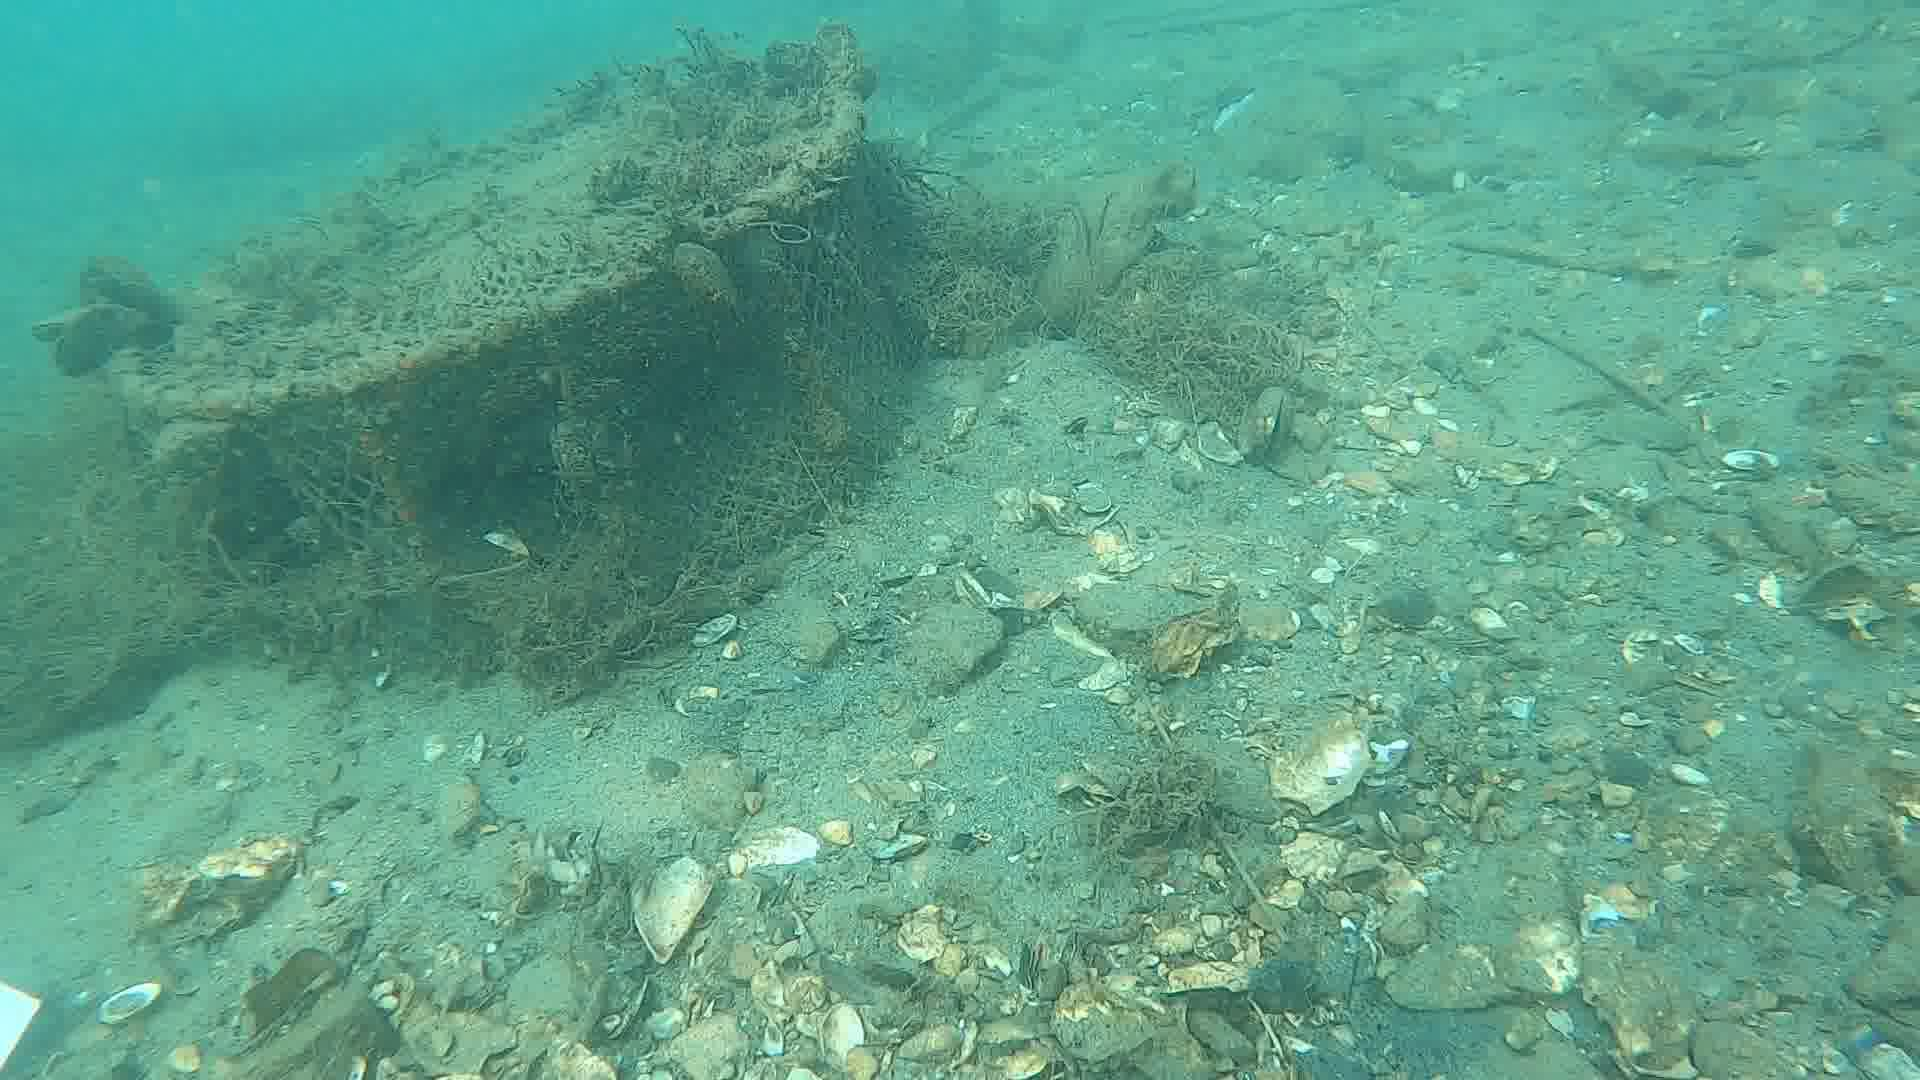circular fish trap: (117, 37, 906, 601)
